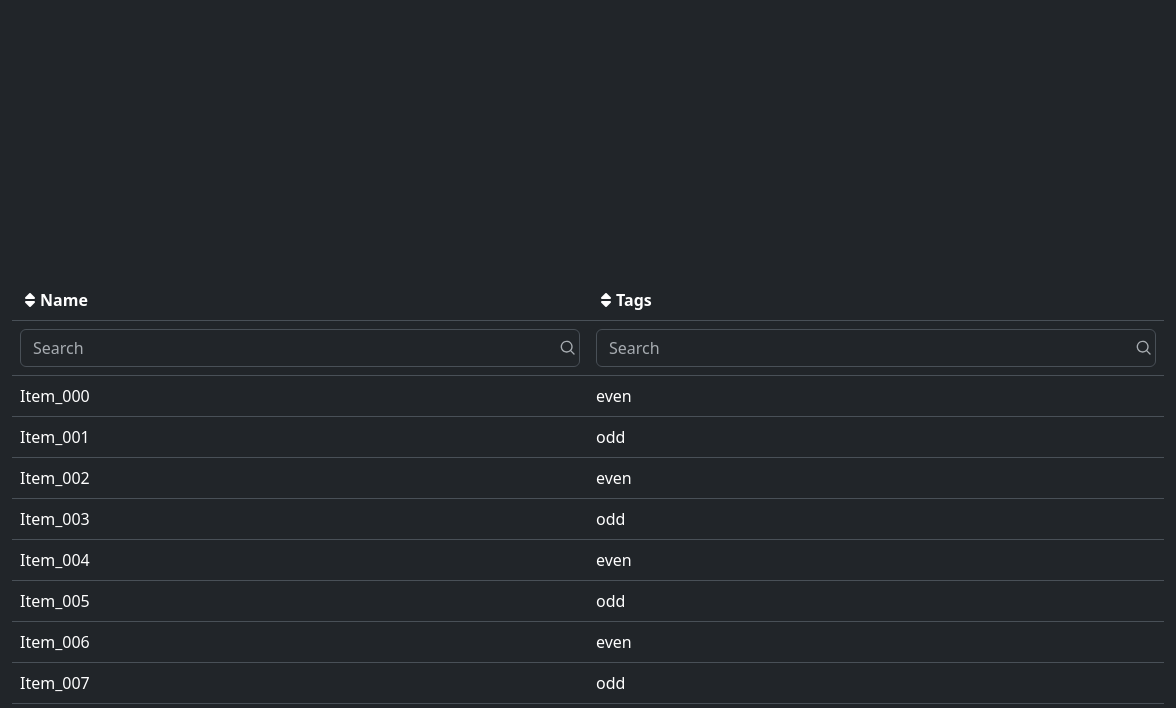
Test: text filters › applies a picked option, showing its label while idle and the raw value while editing
(page scrolled)
Click the 1st field with placeholder "Search" at [300, 348], box [20, 329, 580, 367]
(page scrolled)
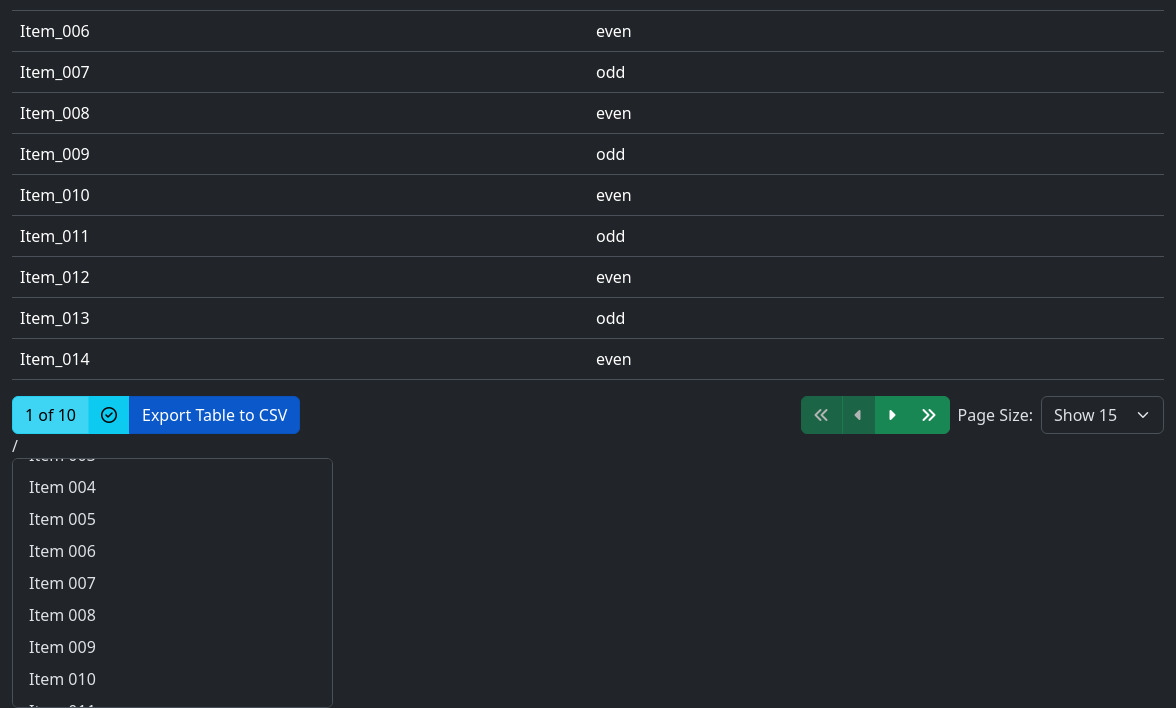
Click the button "Item 007" at [62, 583], box [29, 572, 96, 594]
(page scrolled)
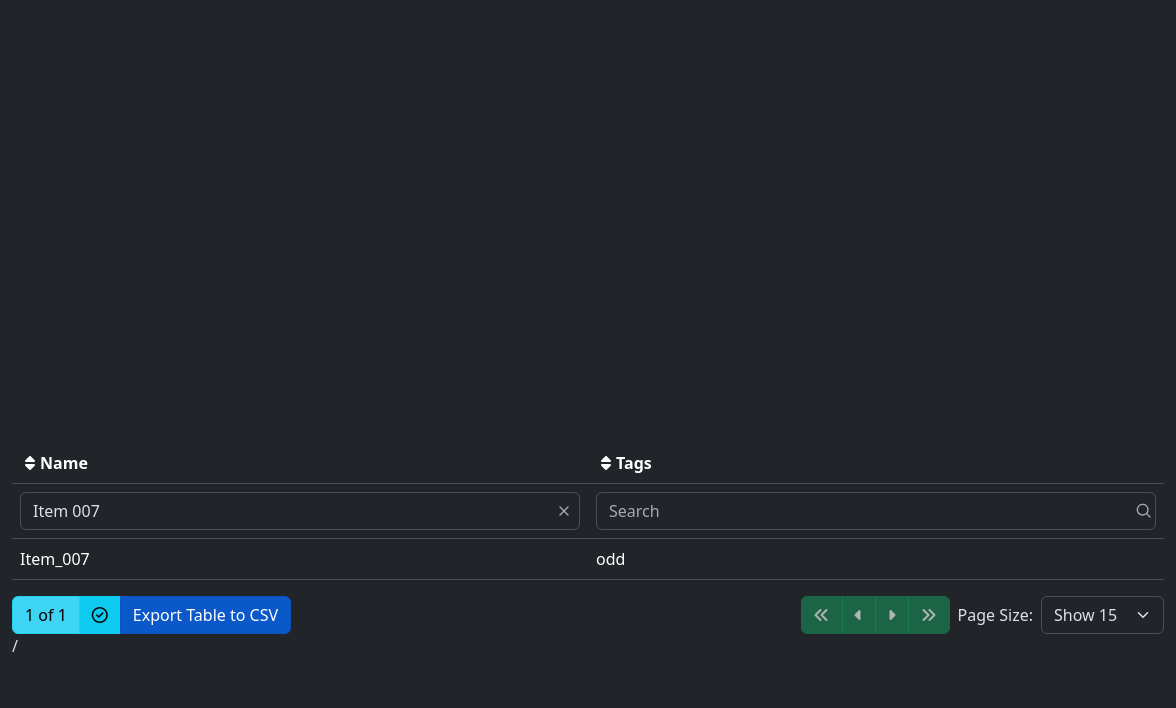
Result: the field with placeholder "Search" holds "Item 007"
Focus the field with placeholder "Search" at [300, 511], box [20, 492, 580, 530]
(page scrolled)
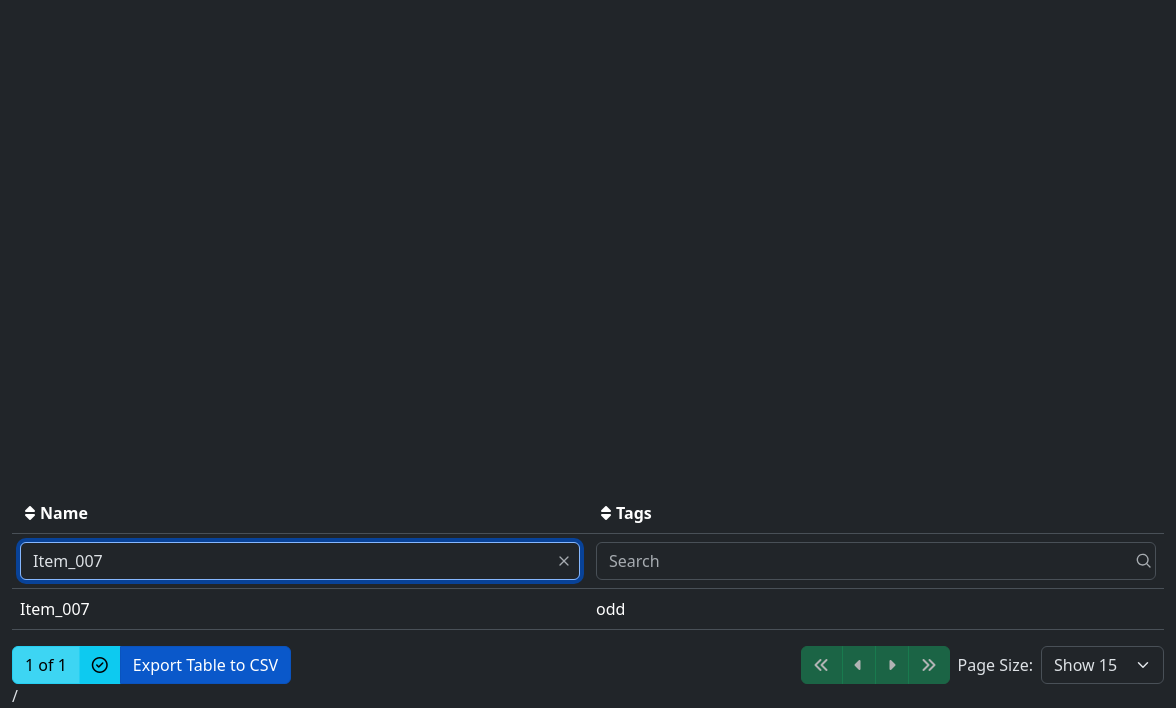
Result: the field with placeholder "Search" holds "Item_007" at [20, 542, 580, 580]
